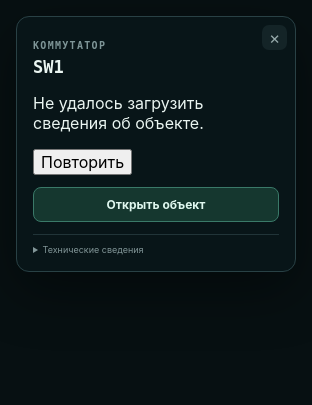
QuickInspector operational reads › retries a failed details read
The image size is (312, 405).
Expected: the message reads "Не удалось загрузить сведения об объекте.", [33,93,204,133]
Click the button "Повторить" at (83, 162), box [33,149,132,175]
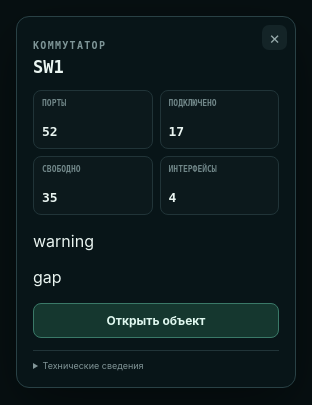
Now the text "Порты" is shown, box [42,99,66,108]
